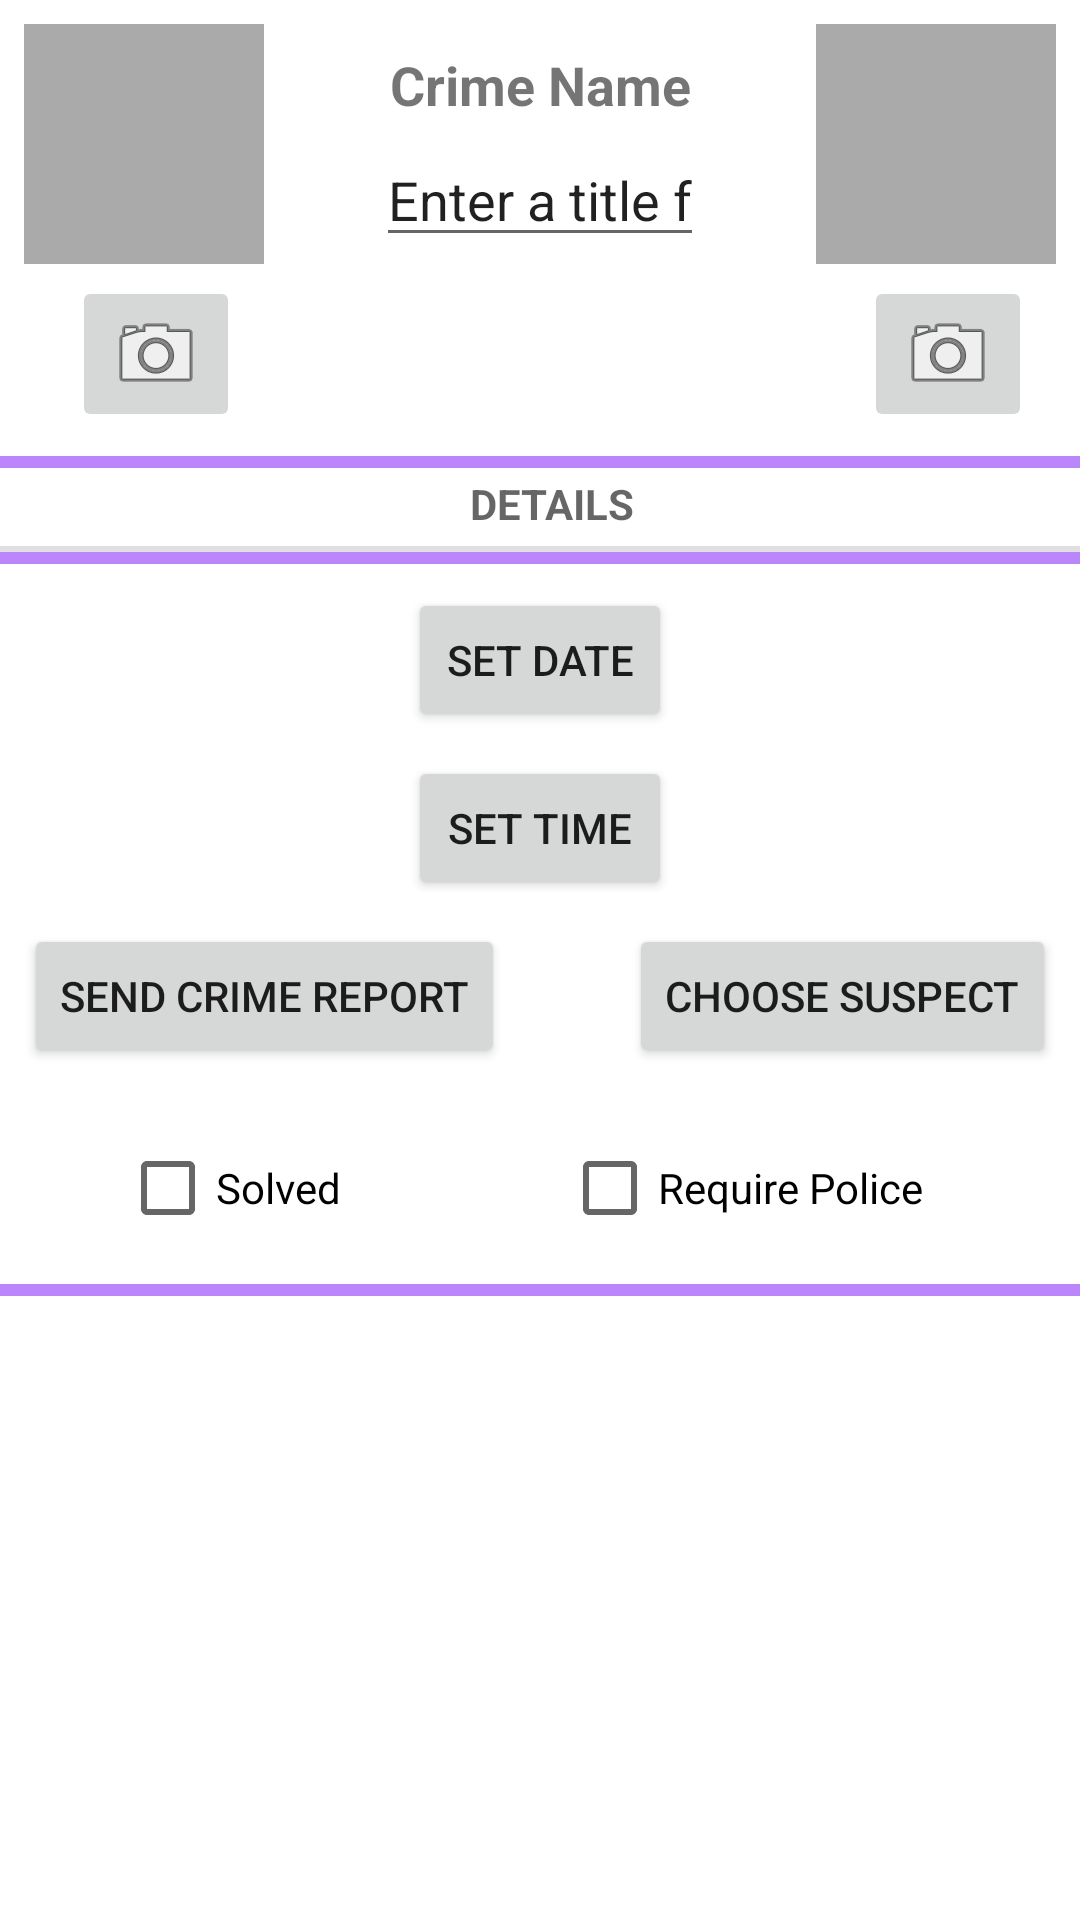

Where to tap for icons on this 1080x1920 app screen, as point (x, y):
camera: point (156, 354), point (948, 354)
